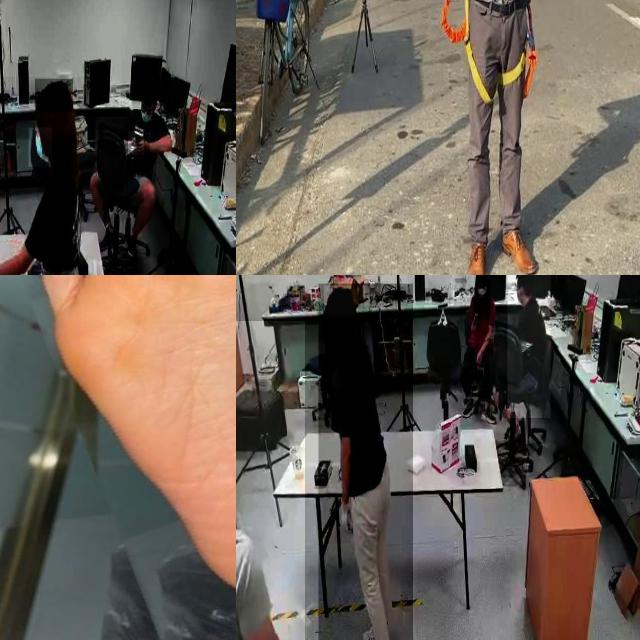Barefoots: (38, 275, 236, 589)
Harness: (442, 0, 493, 106)
face_mask: (28, 128, 52, 166), (474, 275, 487, 296)
hand_glove: (334, 494, 352, 544)
hand_noglove: (128, 131, 144, 156), (136, 135, 150, 155), (475, 347, 483, 365), (473, 310, 481, 326)
head_nohelmet: (35, 79, 73, 113), (324, 286, 355, 316), (140, 83, 158, 97)
person: (318, 283, 413, 640), (236, 321, 305, 640), (0, 76, 100, 275), (507, 275, 550, 418), (459, 275, 490, 427), (122, 98, 173, 178)
